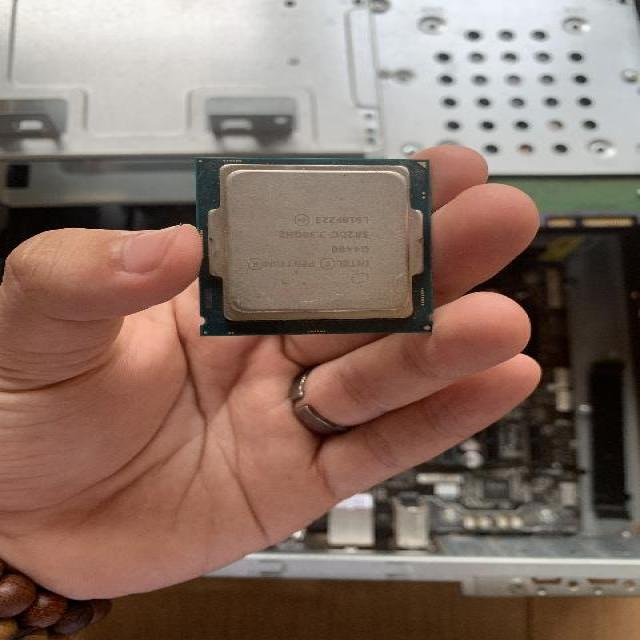CPU: (191, 154, 434, 336)
